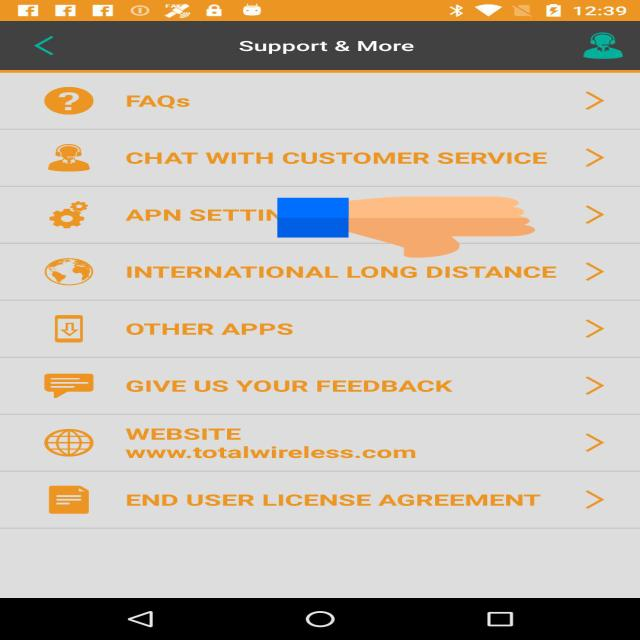obstruction: (277, 195, 535, 259)
